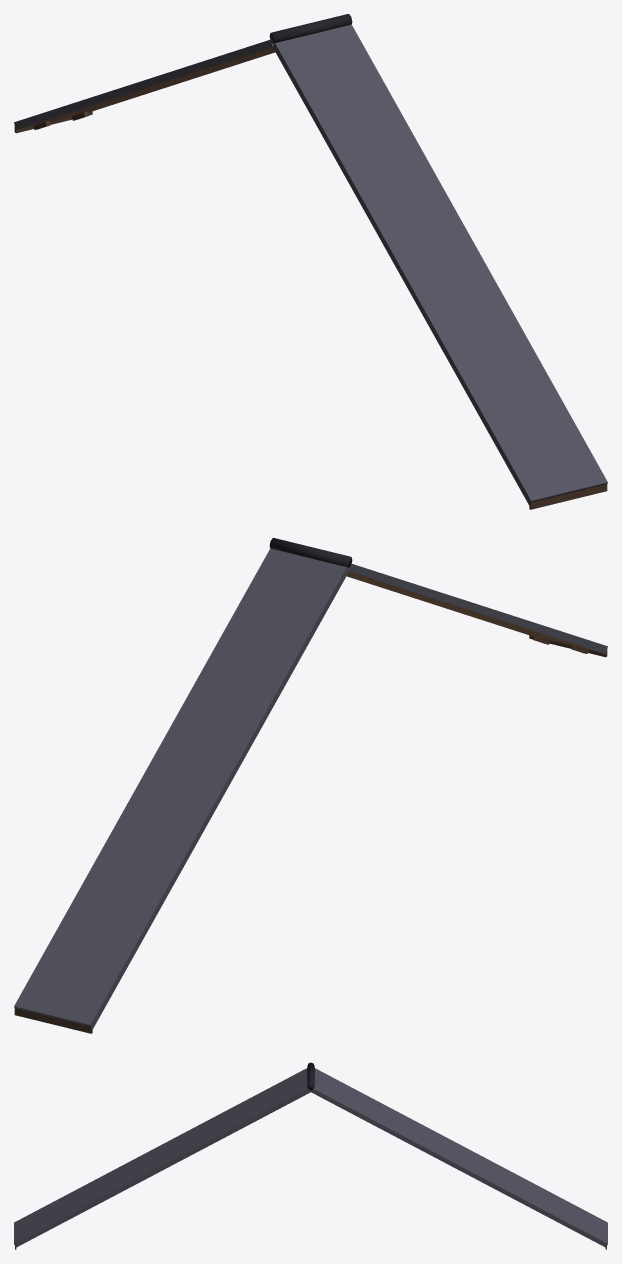
Rendered from kit_stone_slate_w11.glb.
3 renders of one model, top to bottom at view 1: azimuth 30°, elevation 25°; view 2: azimuth 150°, elevation 25°; view 3: azimuth 270°, elevation 25°, orthographic. The views are drawn at different scales.
Parts seen in each view (by area): view 1: kit_stone_slate_w11; view 2: kit_stone_slate_w11; view 3: kit_stone_slate_w11.
Boxes of the visible parts, x1,y1,x2,y2 form: kit_stone_slate_w11: [14, 14, 607, 509]; kit_stone_slate_w11: [14, 538, 607, 1033]; kit_stone_slate_w11: [14, 1062, 607, 1249].
Bounding box in the file's own units: 1 × 3.6 × 11.69.
